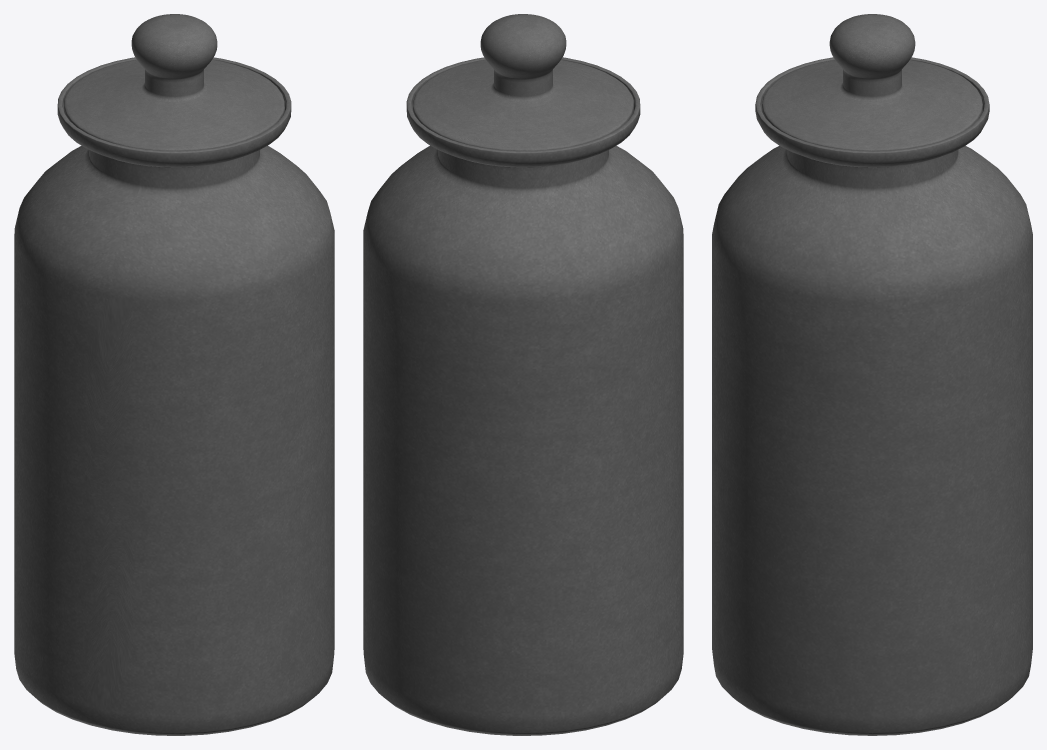
File: Jar_With_Texture.fbx
3 renders of one model, left to right at view 1: azimuth 30°, elevation 25°; view 2: azimuth 150°, elevation 25°; view 3: azimuth 270°, elevation 25°, orthographic.
Parts seen in each view (by area): view 1: Jar, Jar_Lit; view 2: Jar, Jar_Lit; view 3: Jar, Jar_Lit.
Boxes of the visible parts, bbox=[...] form: Jar: bbox=[14, 57, 334, 735]; Jar_Lit: bbox=[64, 14, 284, 150]; Jar: bbox=[363, 57, 683, 735]; Jar_Lit: bbox=[413, 14, 633, 150]; Jar: bbox=[712, 57, 1032, 735]; Jar_Lit: bbox=[762, 14, 982, 150].
Size of the model in its own units: 5.24 by 11.71 by 5.24.
